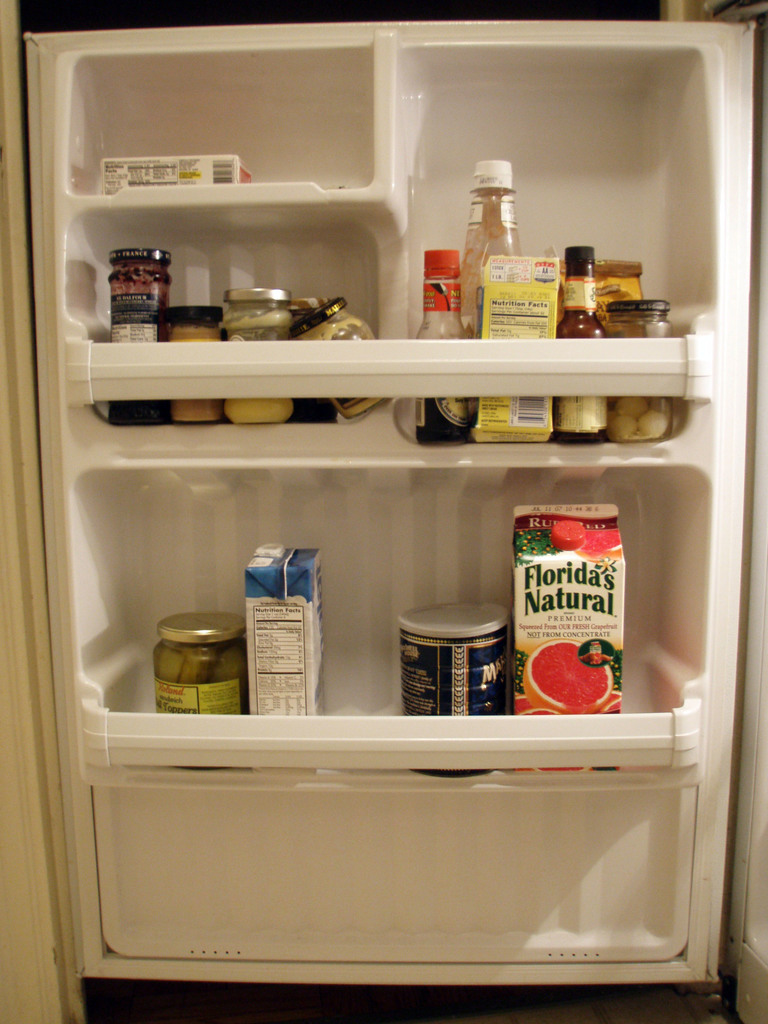refrigerator door: (33, 43, 725, 971)
